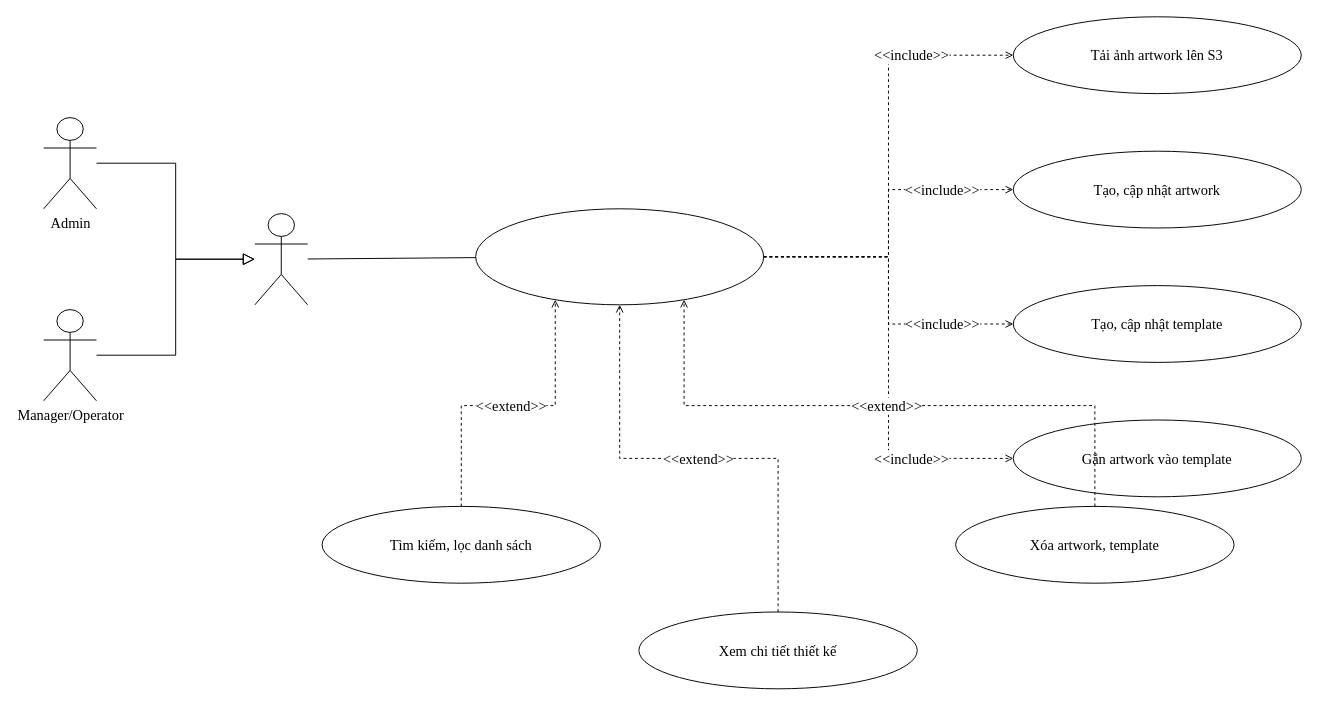
Some shapes in this 1318 by 706 pixel diagram are drawn without their labels. Here are the shapes that lost their labels. From the top down, the box of each, then its label:
(254, 213, 308, 305): Nhân viên quản lý
(475, 208, 764, 305): Quản lý artwork và template
